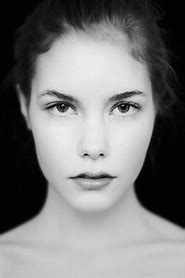person: (15, 13, 160, 218)
